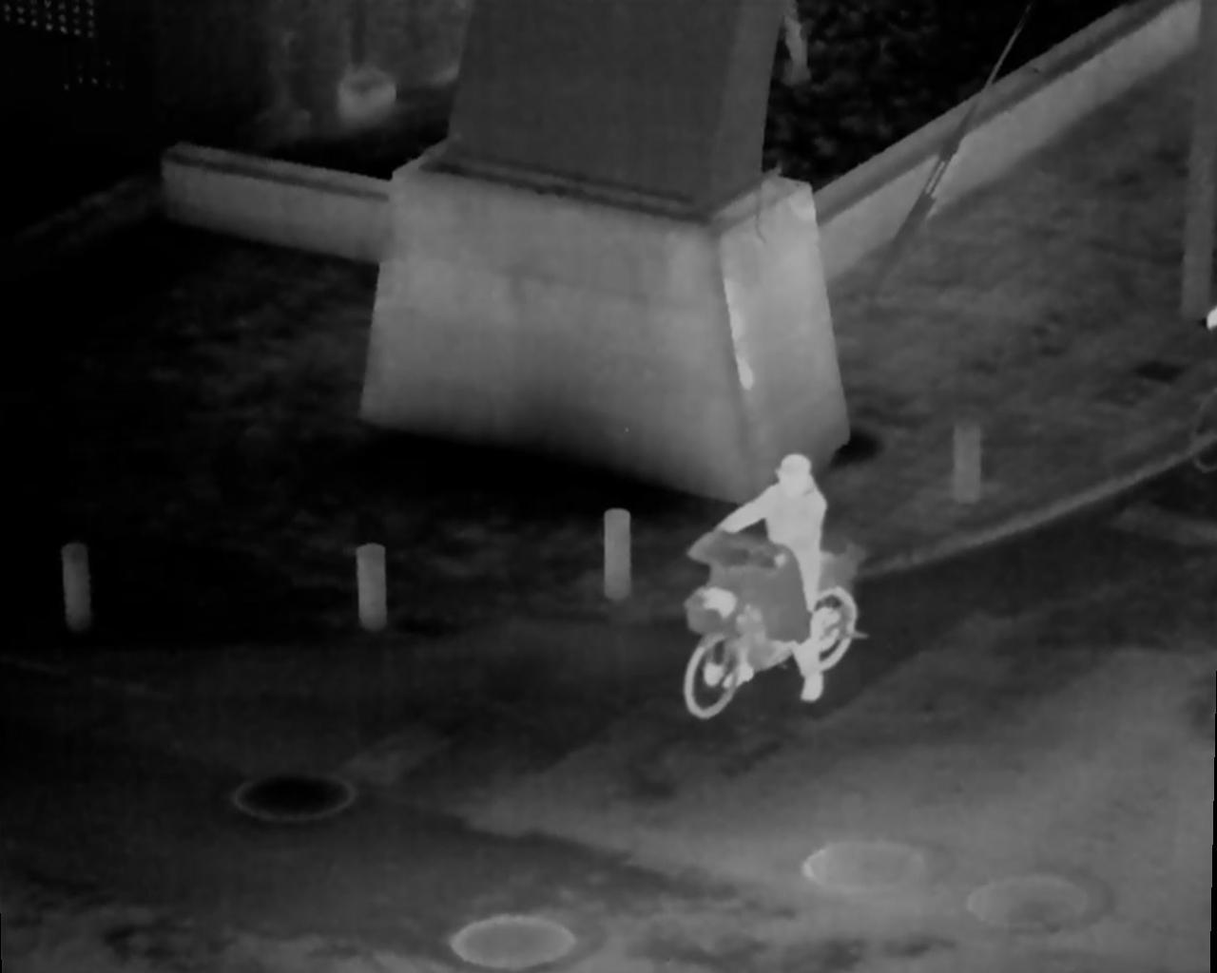person: (715, 449, 831, 702)
